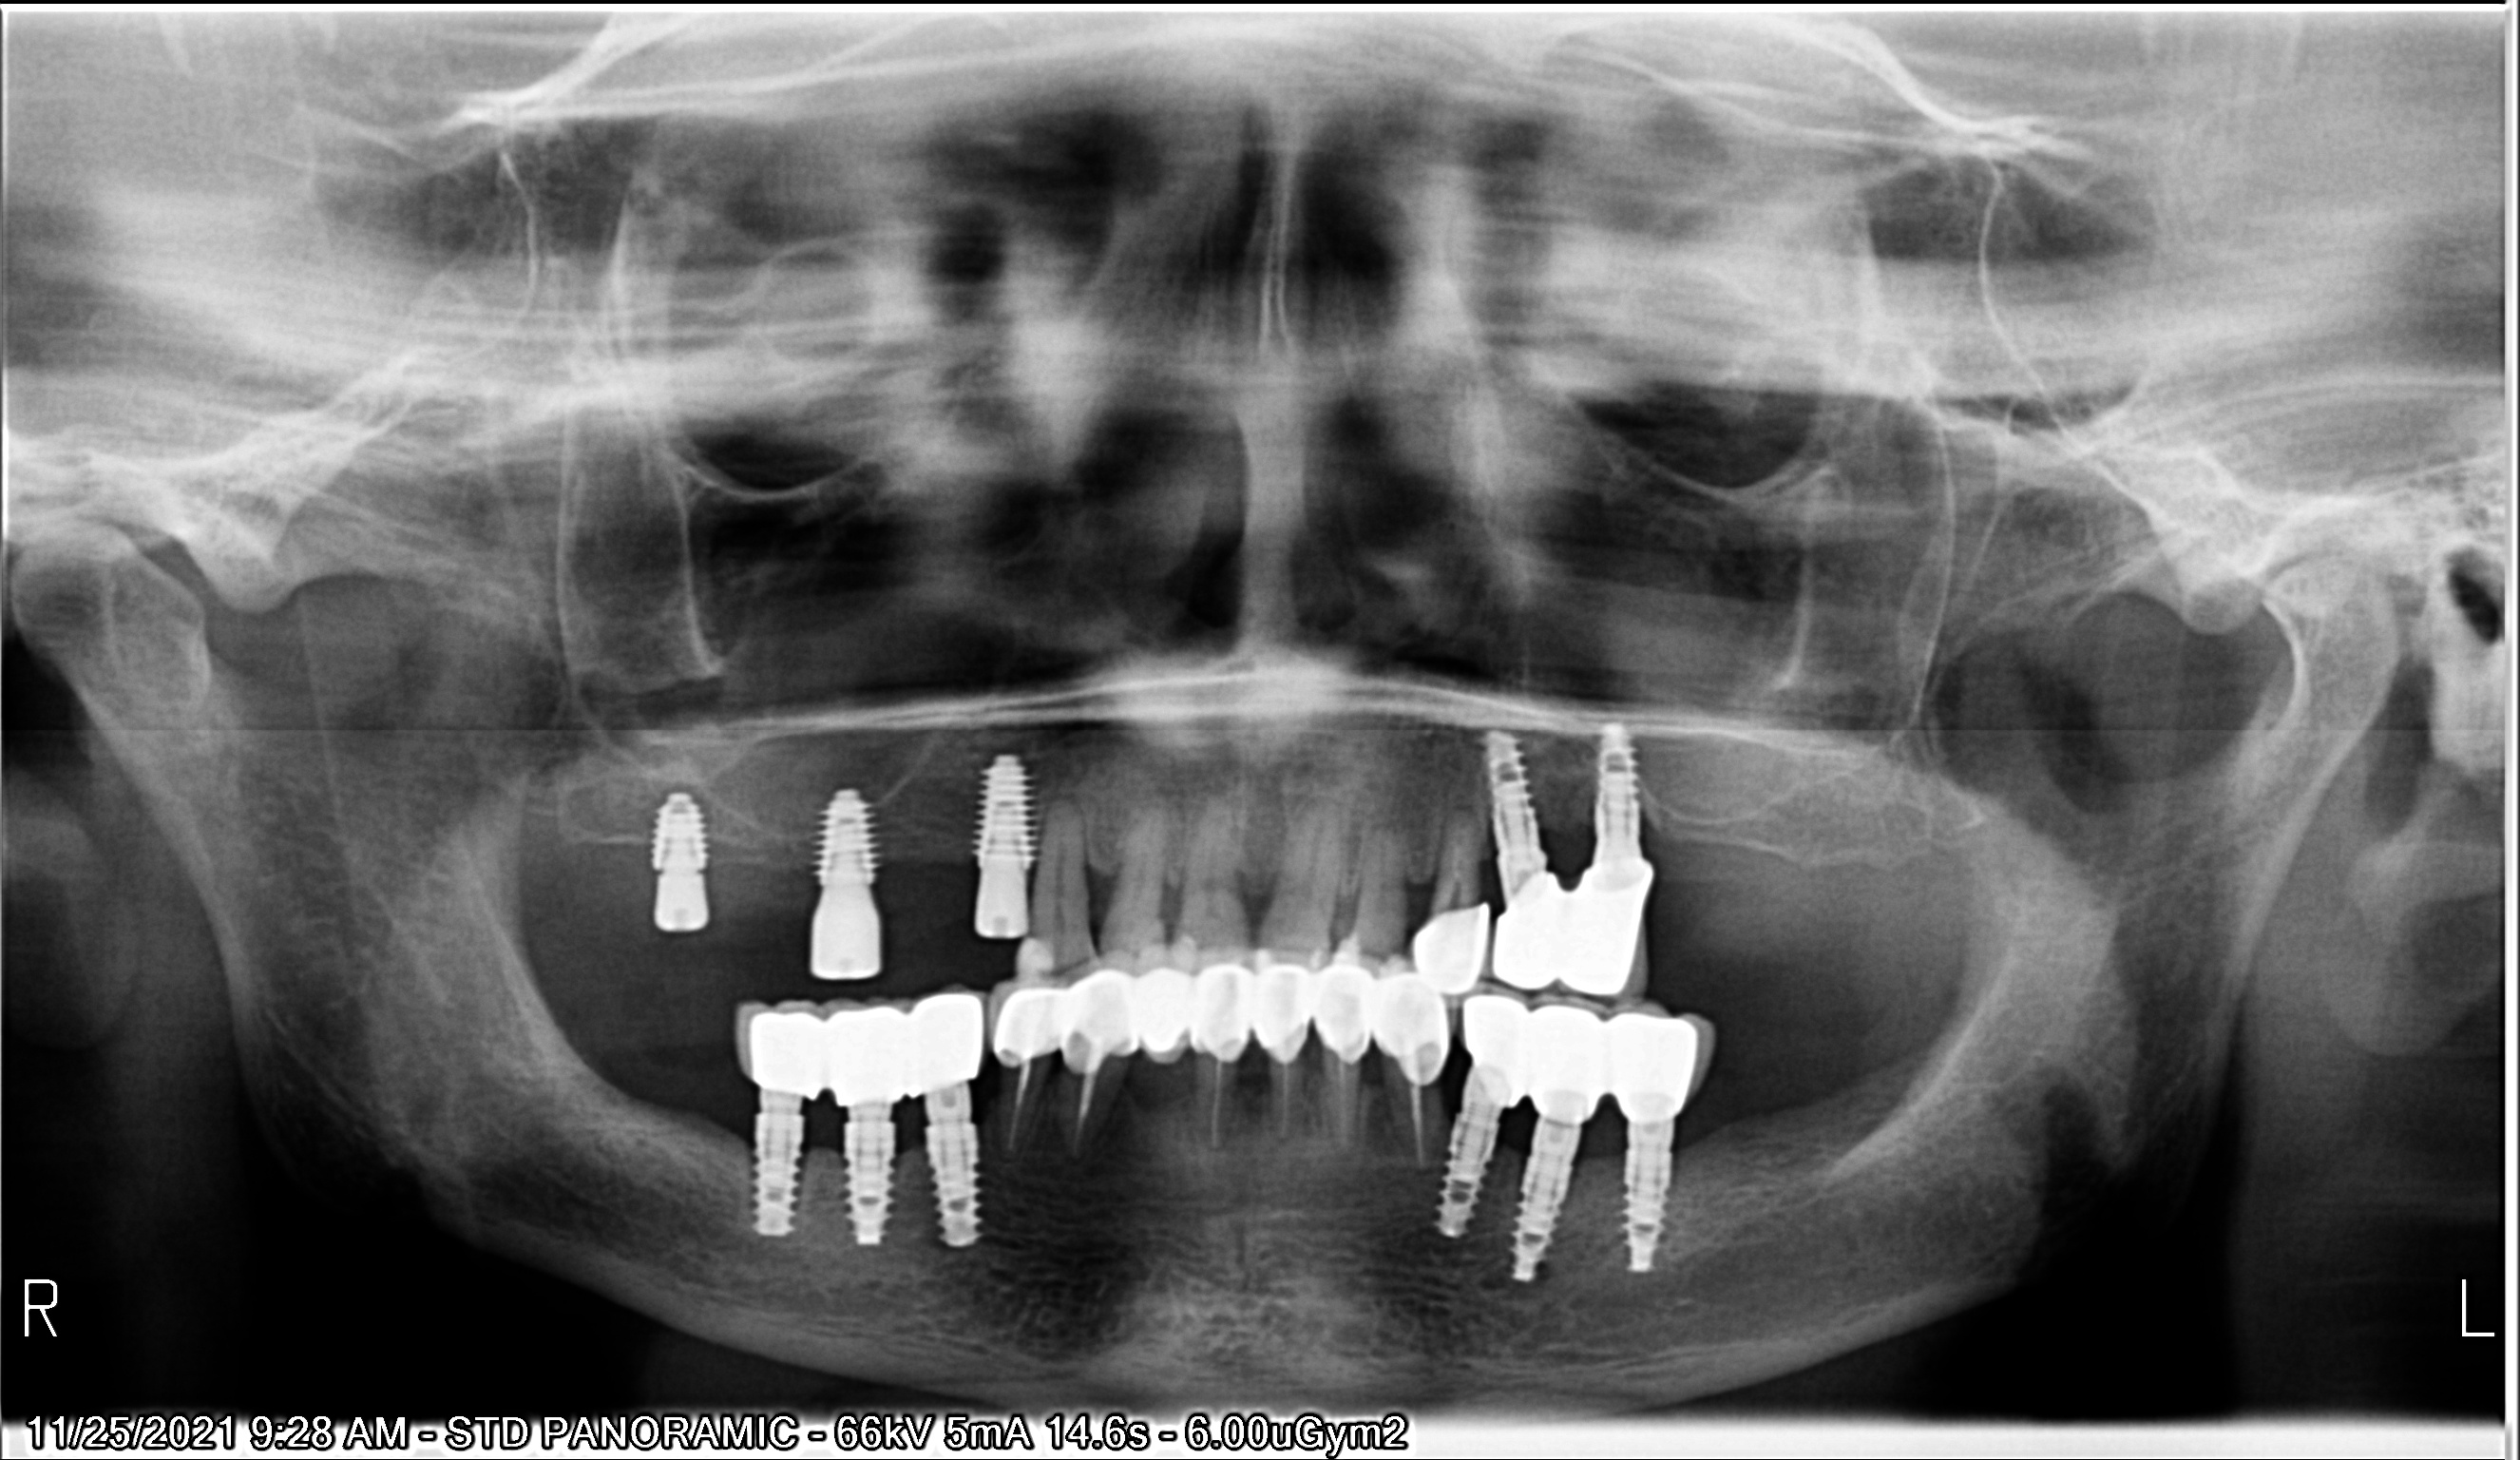BON: (1085, 867, 1115, 918), (1155, 883, 1186, 926), (1240, 881, 1271, 921), (1398, 878, 1426, 918), (1334, 892, 1362, 928)
END: (1000, 1062, 1042, 1163), (1070, 1052, 1110, 1140), (1329, 1055, 1362, 1149), (1202, 1064, 1235, 1147), (1403, 1067, 1429, 1165), (1273, 1058, 1297, 1135)
IMP: (1499, 1121, 1589, 1283), (1474, 732, 1549, 886), (1436, 1081, 1507, 1238), (971, 746, 1037, 876), (926, 1102, 981, 1257), (837, 1114, 898, 1253), (1589, 721, 1643, 876), (1619, 1125, 1672, 1274), (747, 1105, 808, 1236), (815, 777, 882, 885), (644, 777, 712, 878)
OBT: (1016, 937, 1052, 987)
PRR: (993, 979, 1454, 1086), (745, 984, 978, 1104), (1530, 1003, 1702, 1126), (1488, 871, 1650, 996), (1412, 909, 1490, 992)
